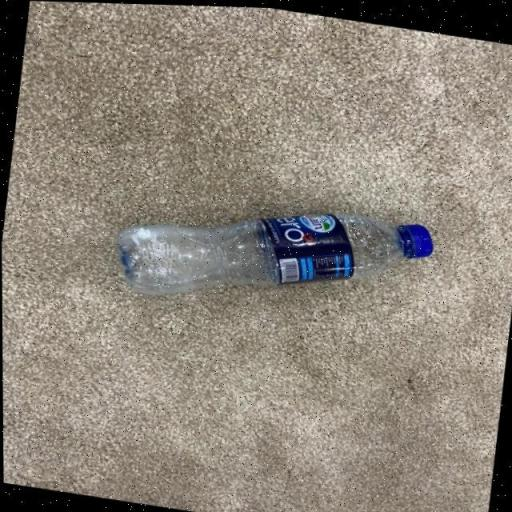plastic: (111, 175, 437, 334)
